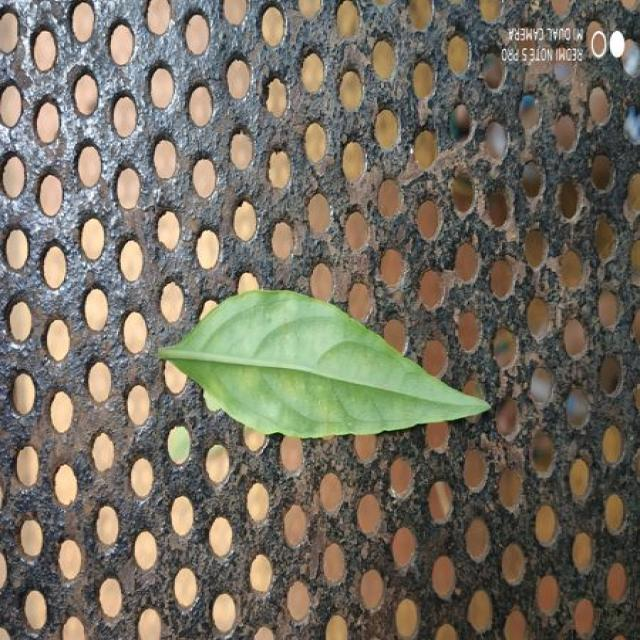Nelavembu: (160, 291, 490, 438)
